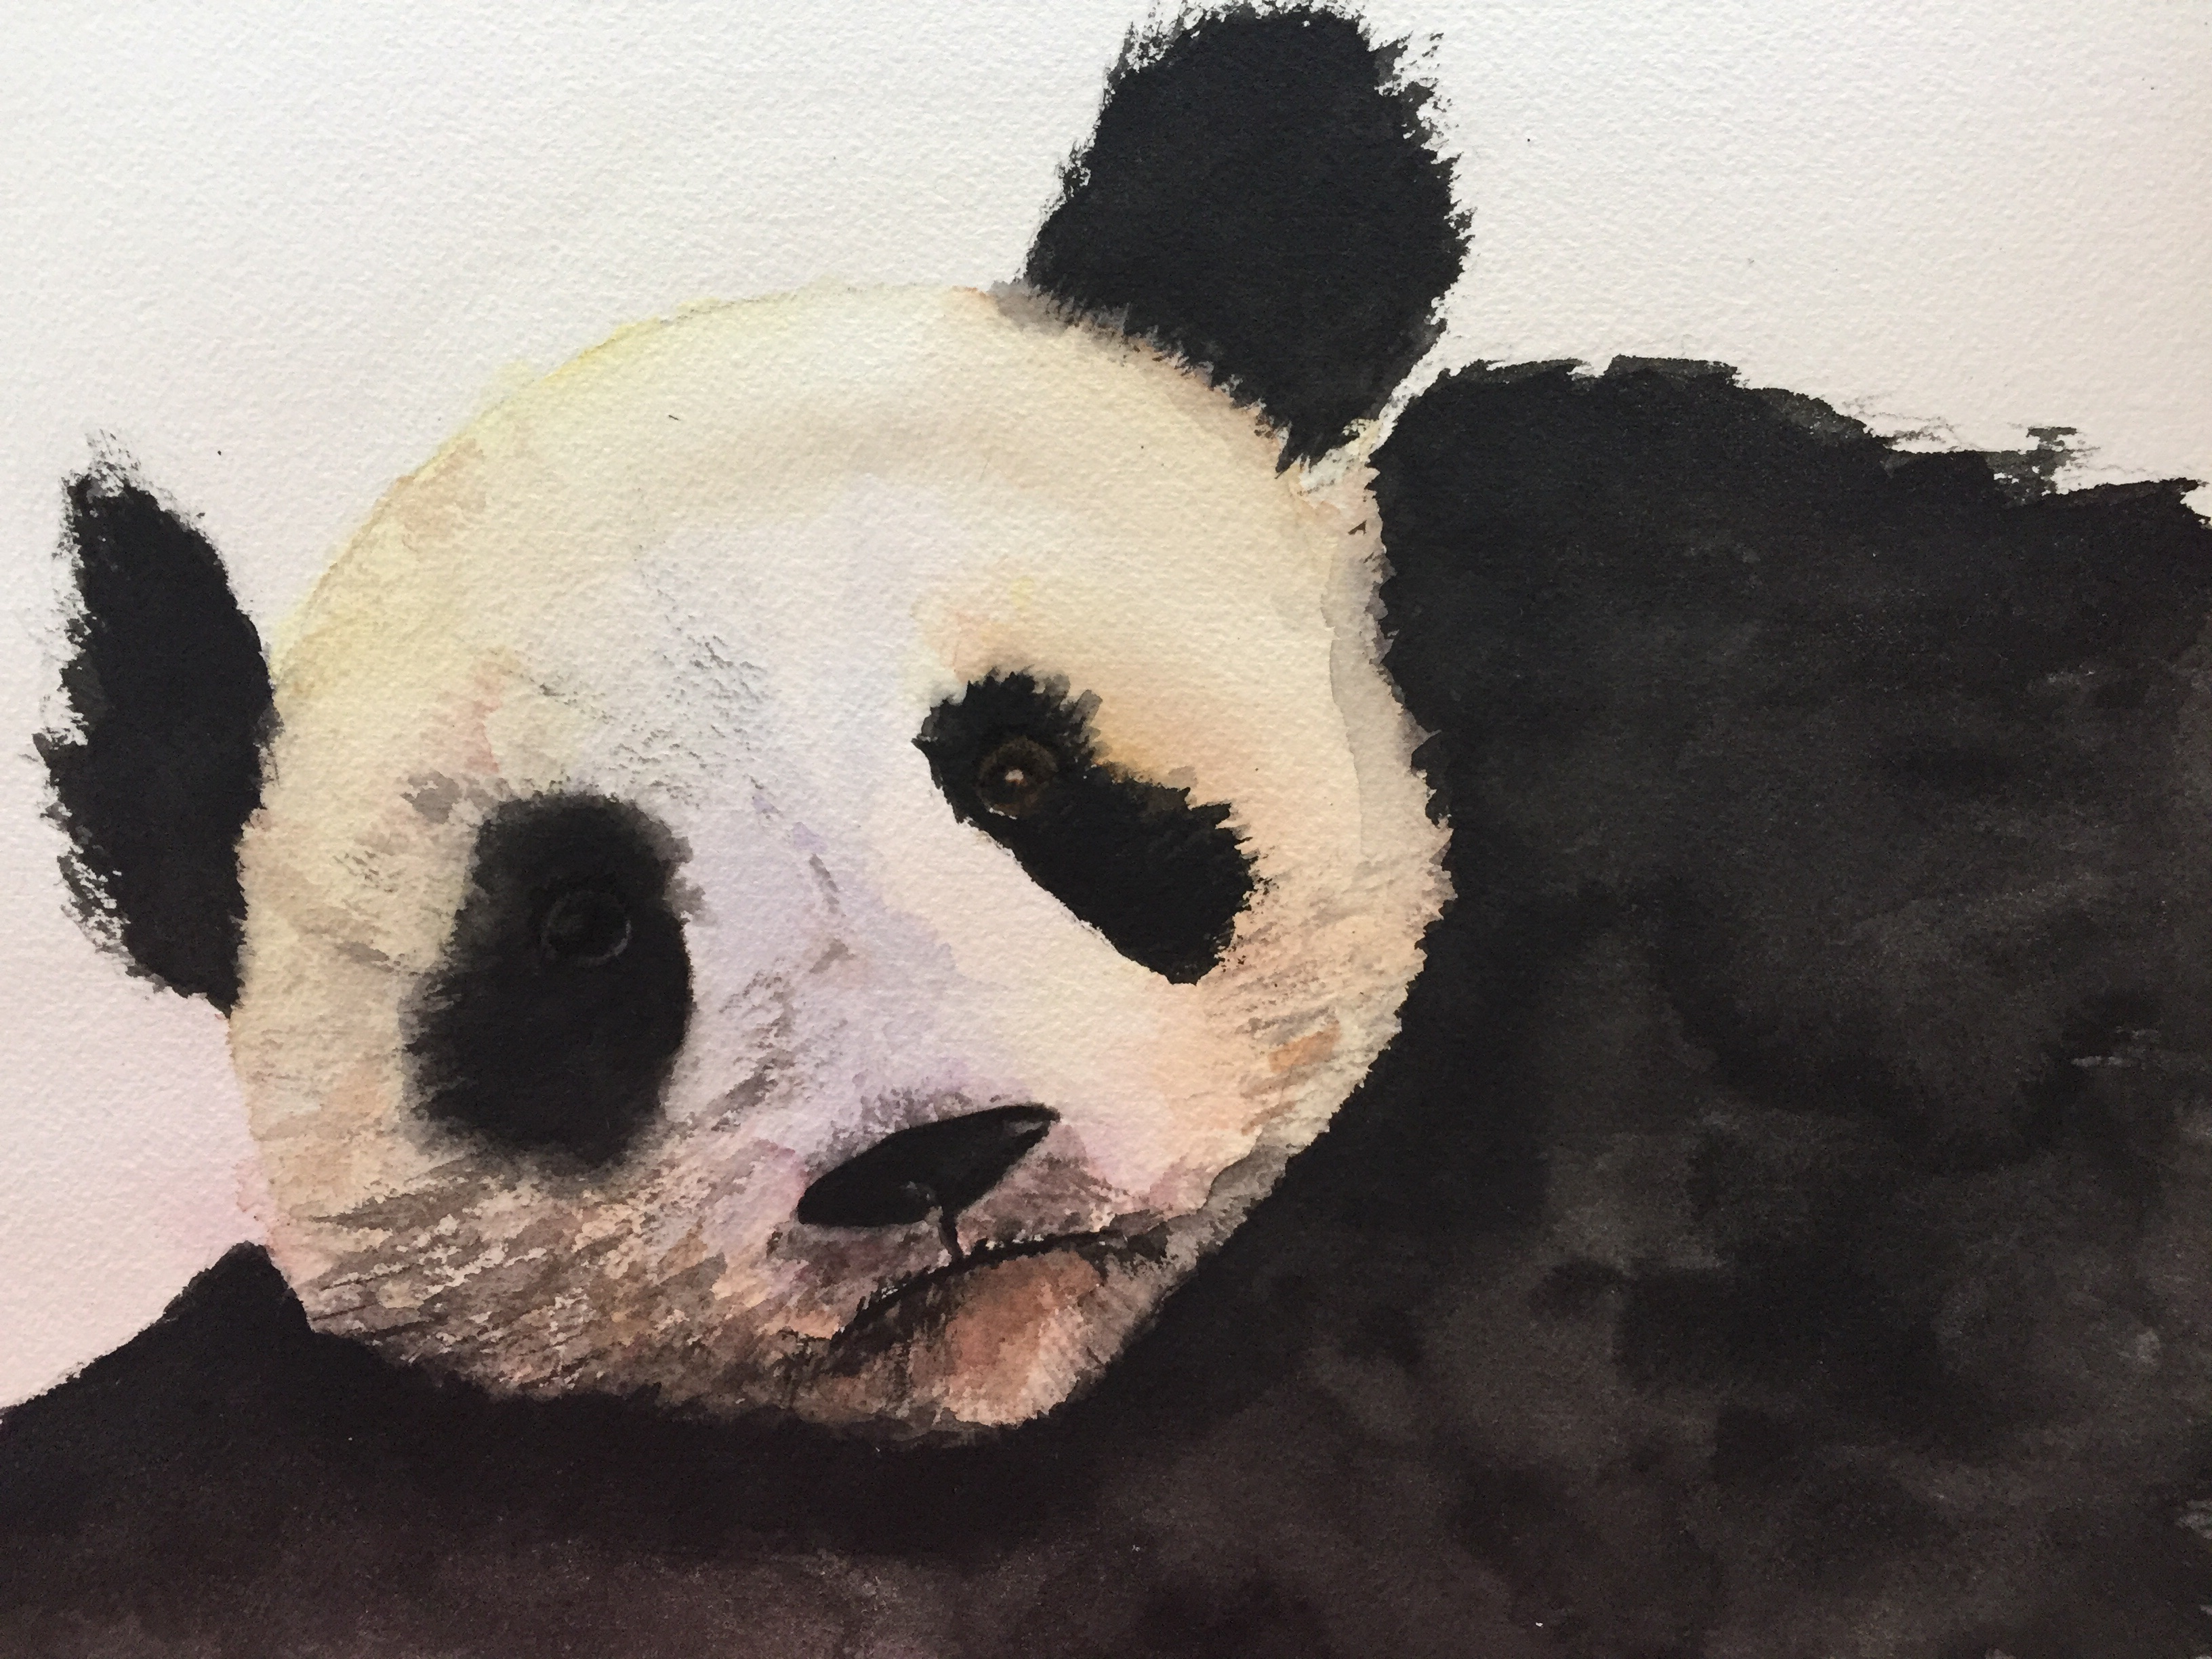panda: (80, 0, 2149, 1565)
